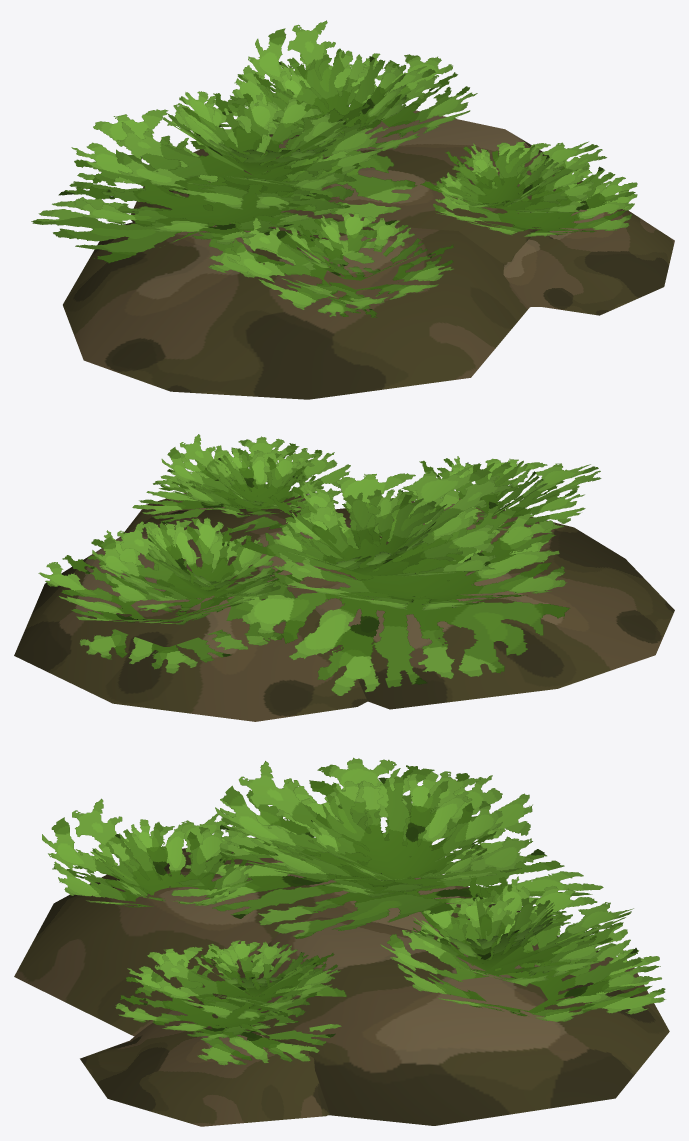
The model's file is Elkhorn Cora 5_preview_3DS_simplified.glb.
3 renders of one model, top to bottom at view 1: azimuth 30°, elevation 25°; view 2: azimuth 150°, elevation 25°; view 3: azimuth 270°, elevation 25°, orthographic. The views are drawn at different scales.
Parts seen in each view (by area): view 1: Marine Park Empire model; view 2: Marine Park Empire model; view 3: Marine Park Empire model.
Part boxes in pixels (box(x1,y1,x2,y2)): Marine Park Empire model: box(31, 20, 674, 399); Marine Park Empire model: box(14, 434, 674, 721); Marine Park Empire model: box(14, 757, 669, 1126).
Size of the model in its own units: 166 by 41.53 by 159.
2 materials, 2 textured.
